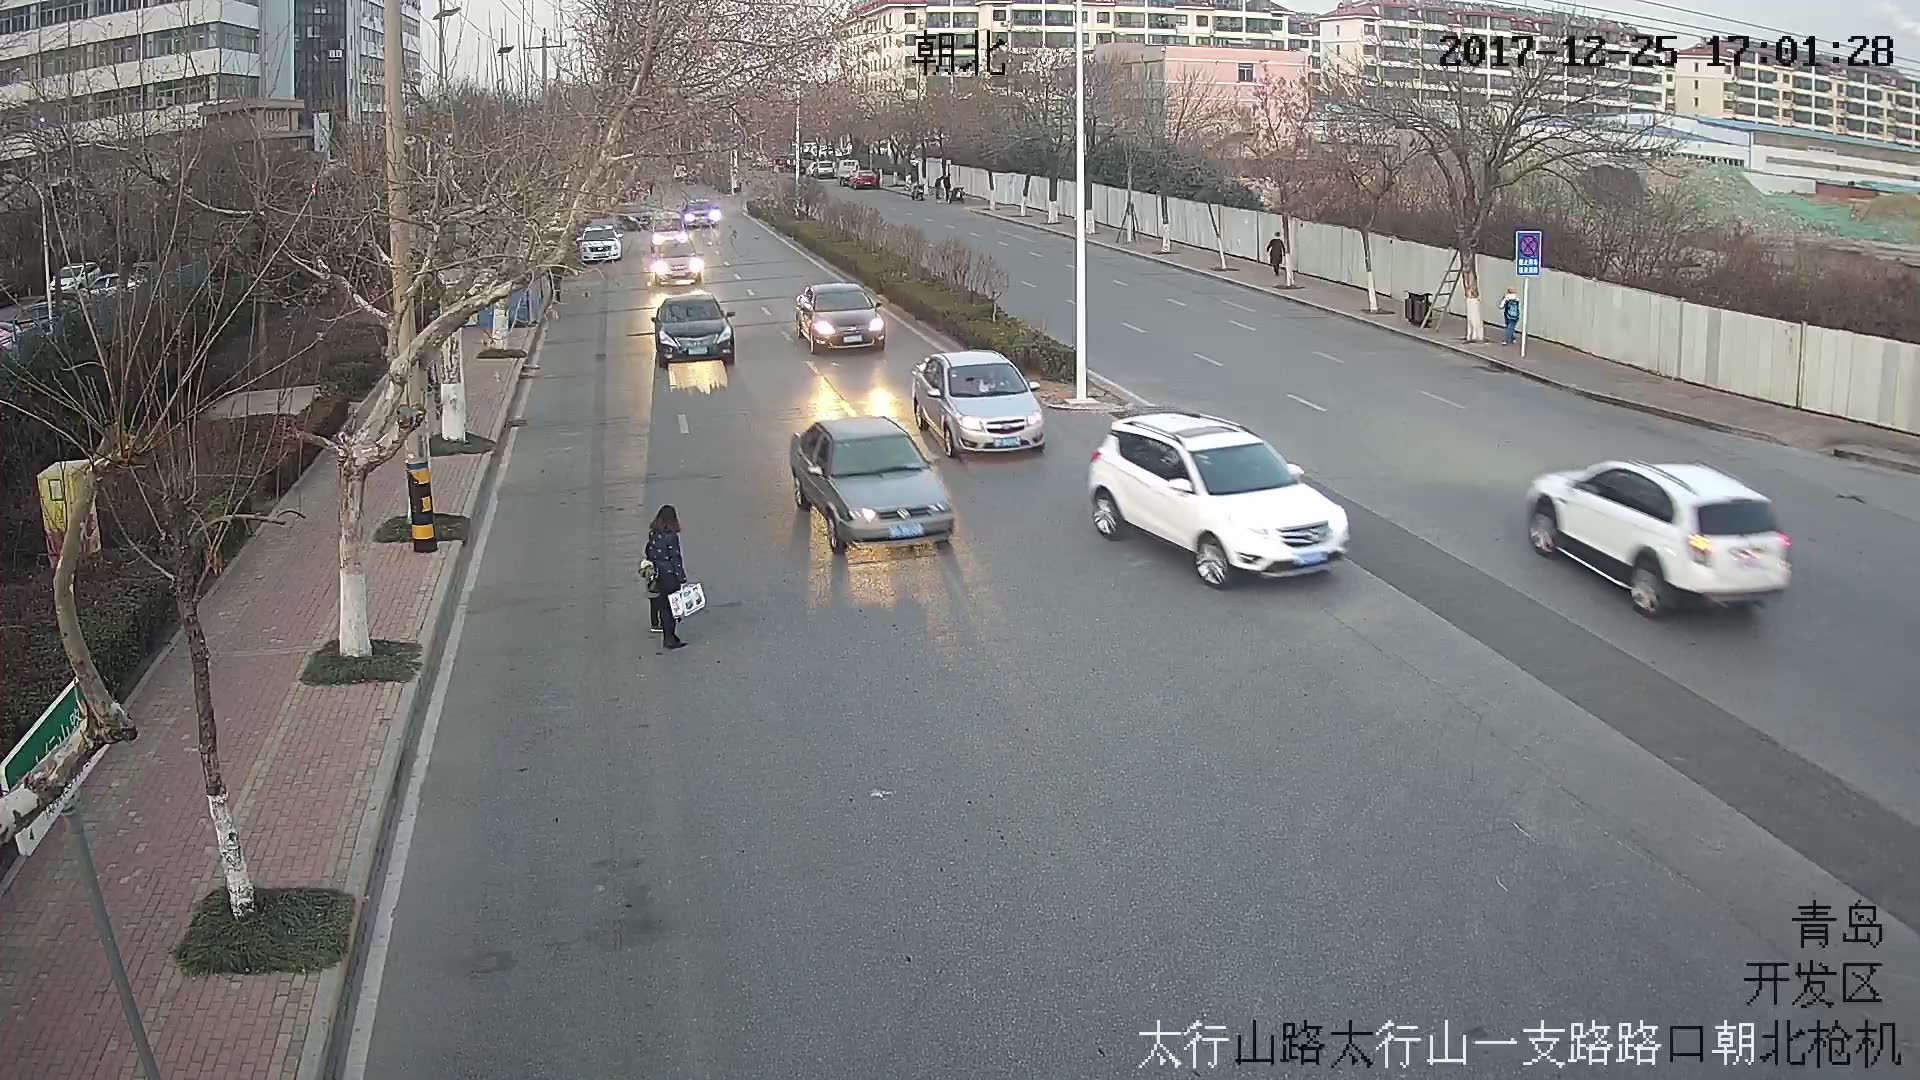car: (1087, 416, 1350, 591), (1521, 459, 1799, 619), (792, 420, 957, 550), (912, 353, 1048, 453), (795, 282, 889, 353), (650, 231, 702, 284), (578, 224, 625, 262)
person: (642, 505, 695, 648), (1500, 288, 1518, 341), (1266, 228, 1285, 273)
